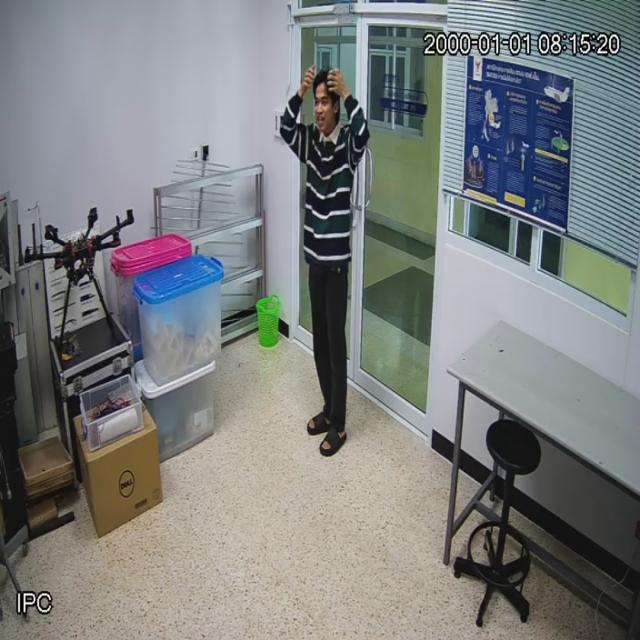normal: (279, 69, 370, 455)
